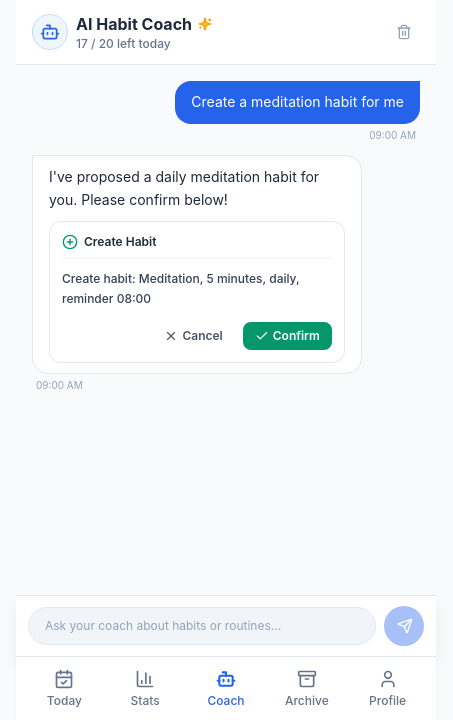
CoachPage (Step 10.4) › Action Cards (Step 10.5) › confirms action and updates status to confirmed
The width and height of the screenshot is (453, 720).
Click the button "Confirm" at [287, 336], box [243,322,332,350]
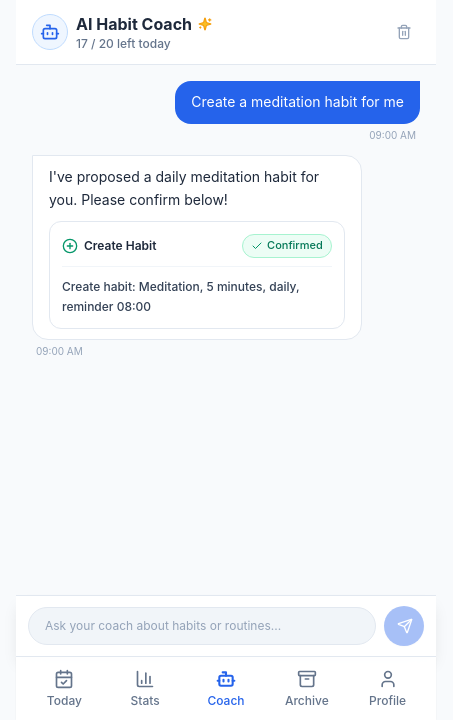
Check: the text "Confirmed" is shown, box [267,237,323,255]
